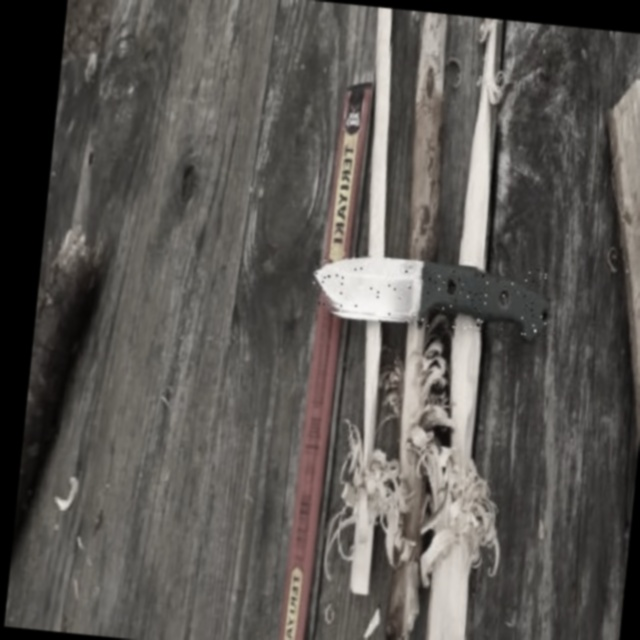Sharp-Object: (307, 250, 553, 338)
